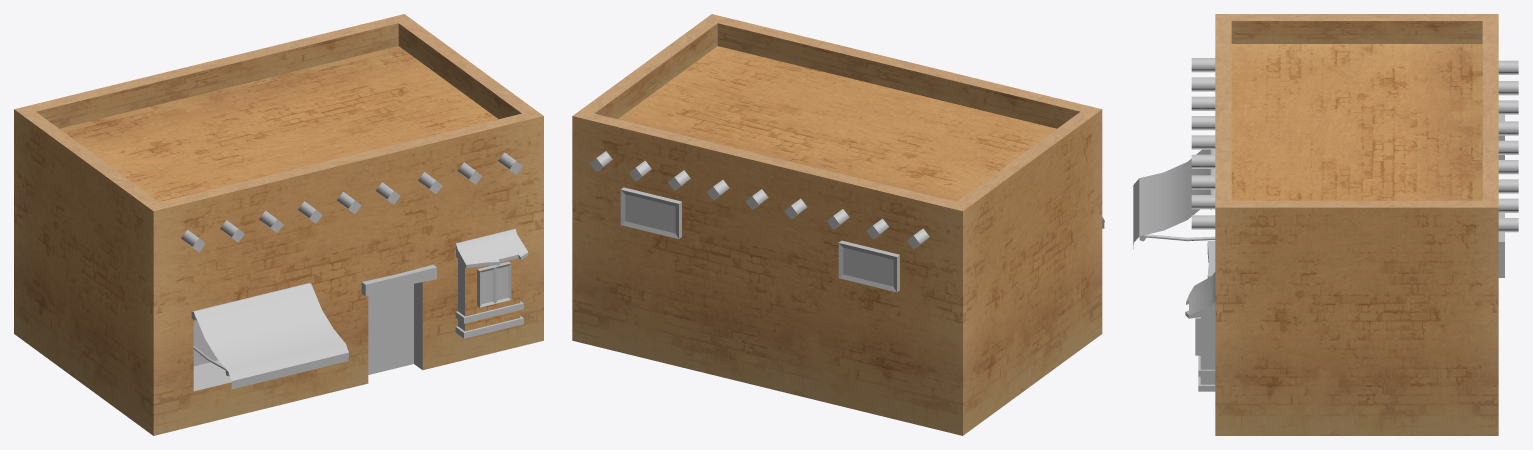
The model's file is House_02.fbx.
The picture shows the model from 3 angles, left to right: view 1: azimuth 30°, elevation 25°; view 2: azimuth 150°, elevation 25°; view 3: azimuth 270°, elevation 25°; orthographic projection.
Visible parts, largest first — view 1: House_02; view 2: House_02; view 3: House_02.
Boxes of the visible parts, <box> form: House_02: <box>14,14,543,435</box>; House_02: <box>572,14,1104,435</box>; House_02: <box>1133,14,1518,435</box>.
Bounding box in the file's own units: 166 × 91.2 × 139.
